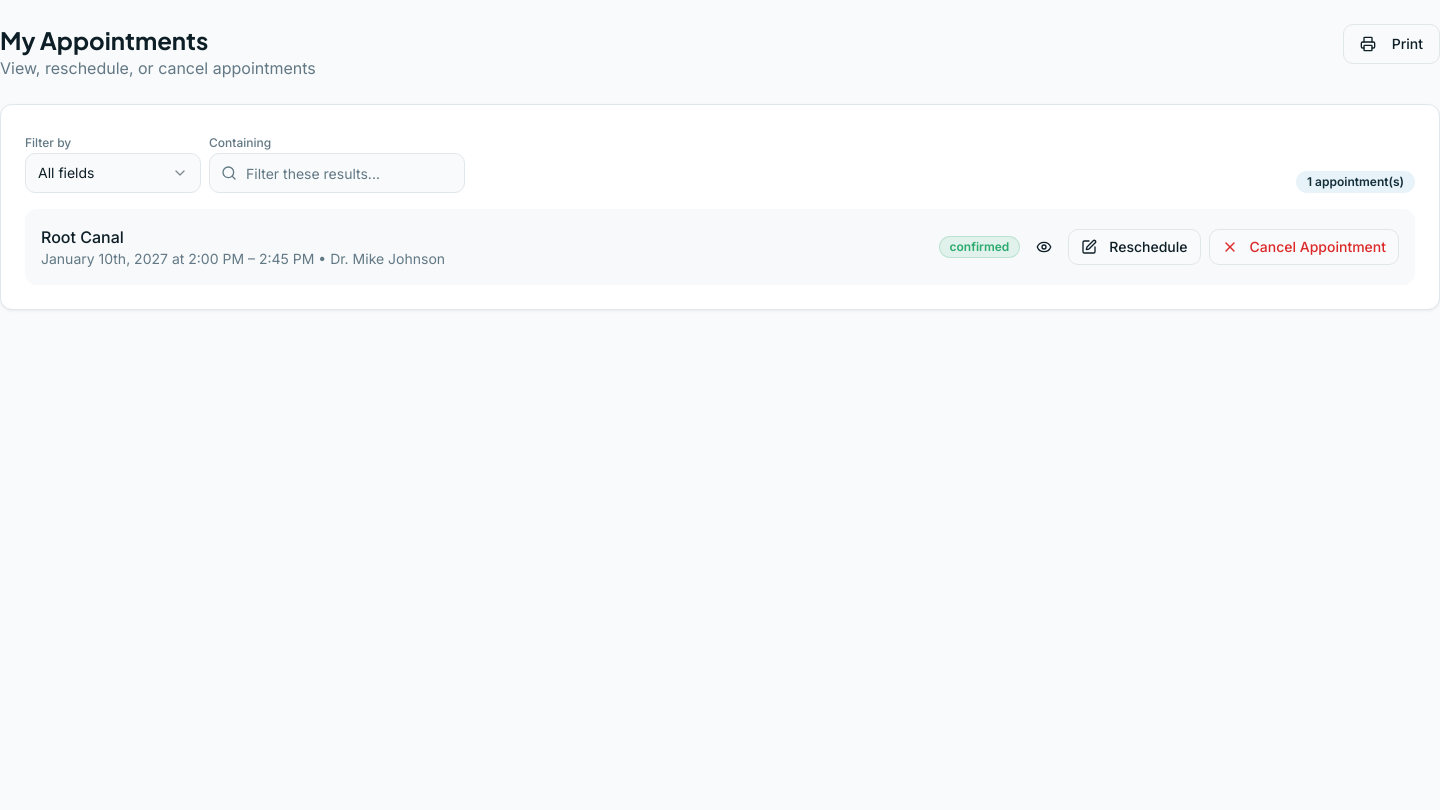
Test: what the reschedule dialog tells a patient about the move › says which days the dentist works before the calendar greys the rest out
This screenshot has width=1440, height=810.
Click the button "Reschedule" at {"x": 1134, "y": 247}, box [1068,229,1200,265]
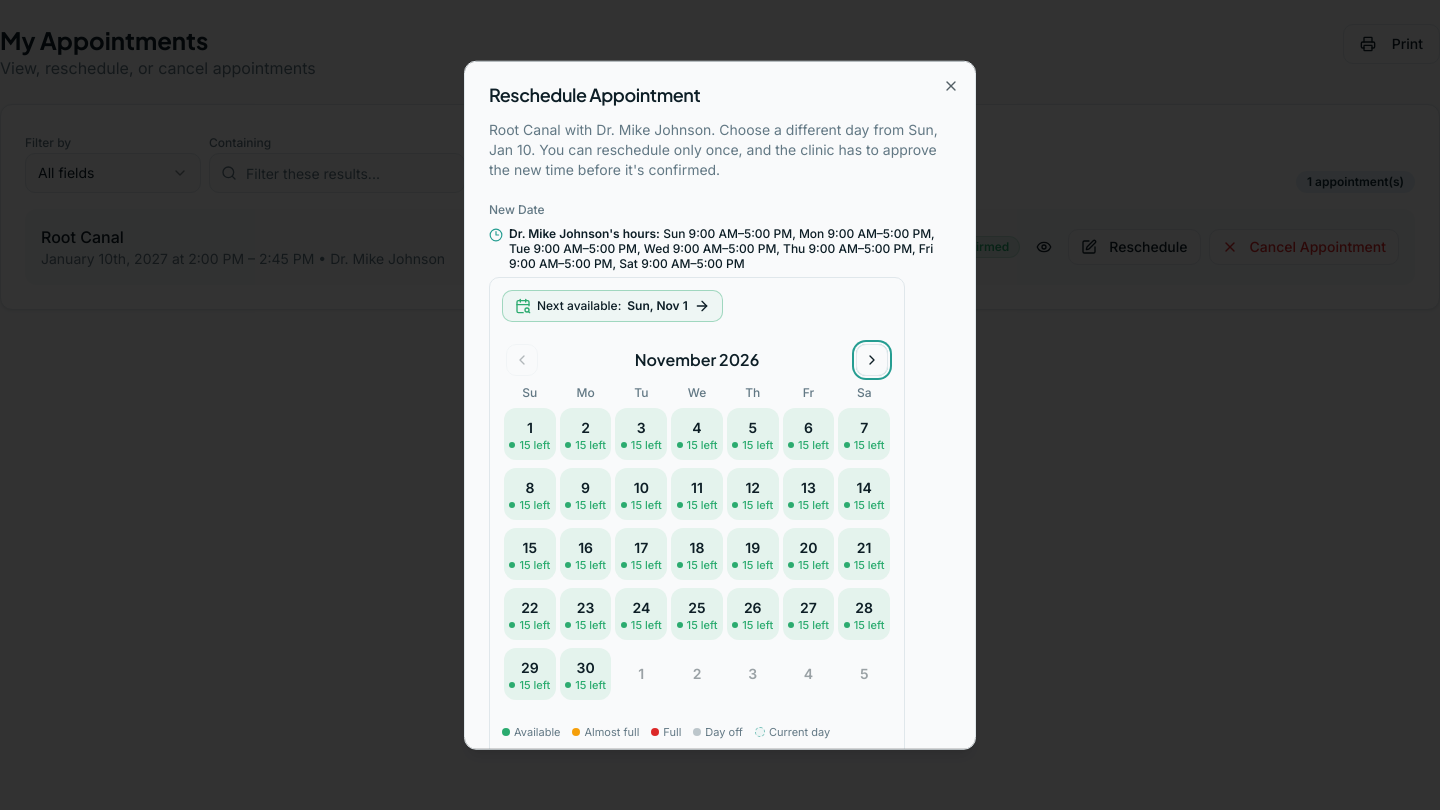
Check: the dialog is shown, box [464,61,976,749]
Check: the text "Dr. Mike Johnson's hours:" is shown, box [509,226,660,241]
